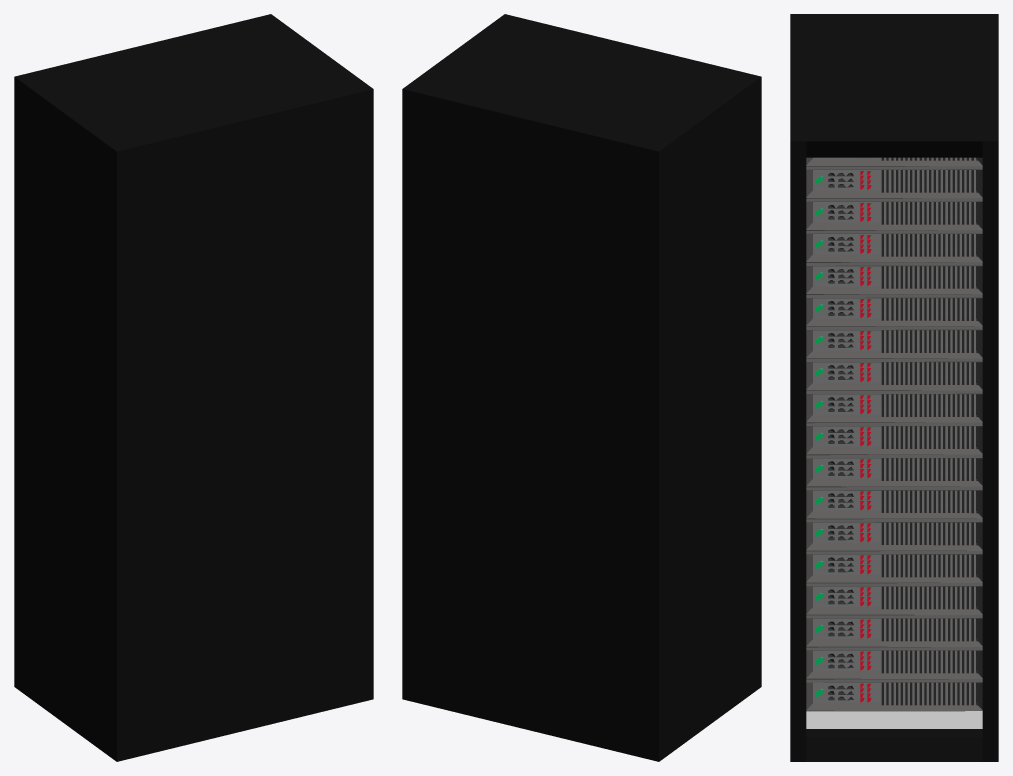
The model's file is server_rack_lod2.fbx.
3 views of the same model, side by side, from view 1: azimuth 30°, elevation 25°; view 2: azimuth 150°, elevation 25°; view 3: azimuth 270°, elevation 25° (orthographic).
Visible parts, largest first — view 1: Server Rack; view 2: Server Rack; view 3: Server Chassis, Server Rack, Cube.
Part boxes in pixels (x1,y1,x2,y2): Server Rack: [14, 14, 373, 761]; Server Rack: [402, 14, 761, 761]; Server Chassis: [806, 157, 982, 711]; Server Rack: [790, 14, 998, 761]; Cube: [806, 711, 982, 728].
Bounding box in the file's own units: 308 × 700 × 213.
